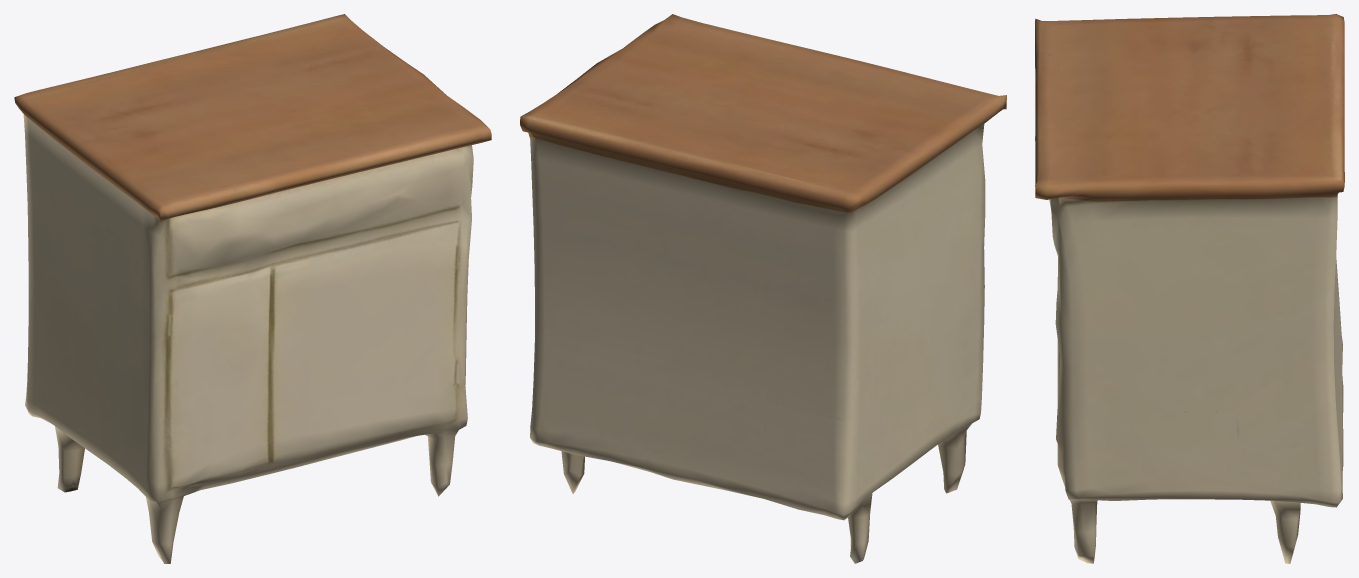
The model's file is kitchen_cabinet.glb.
3 views of the same model, side by side, from view 1: azimuth 30°, elevation 25°; view 2: azimuth 150°, elevation 25°; view 3: azimuth 270°, elevation 25° (orthographic). The views are drawn at different scales.
Parts seen in each view (by area): view 1: kitchen_cabinet; view 2: kitchen_cabinet; view 3: kitchen_cabinet.
Boxes of the visible parts, box(x1,y1,x2,y2) form: kitchen_cabinet: box(14, 14, 491, 563); kitchen_cabinet: box(520, 14, 1006, 563); kitchen_cabinet: box(1035, 14, 1344, 563).
Bounding box in the file's own units: 0.8 × 0.88 × 0.62.
1 material, 1 textured.
